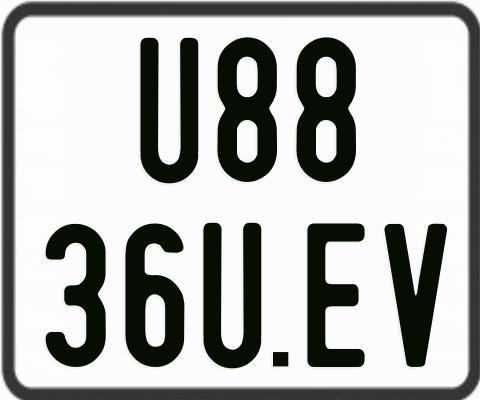3: (43, 221, 107, 369)
6: (125, 224, 187, 369)
8: (295, 34, 357, 179), (215, 35, 275, 184)
E: (307, 221, 369, 365)
U: (203, 221, 263, 367), (140, 37, 198, 182)
V: (384, 223, 446, 370)
